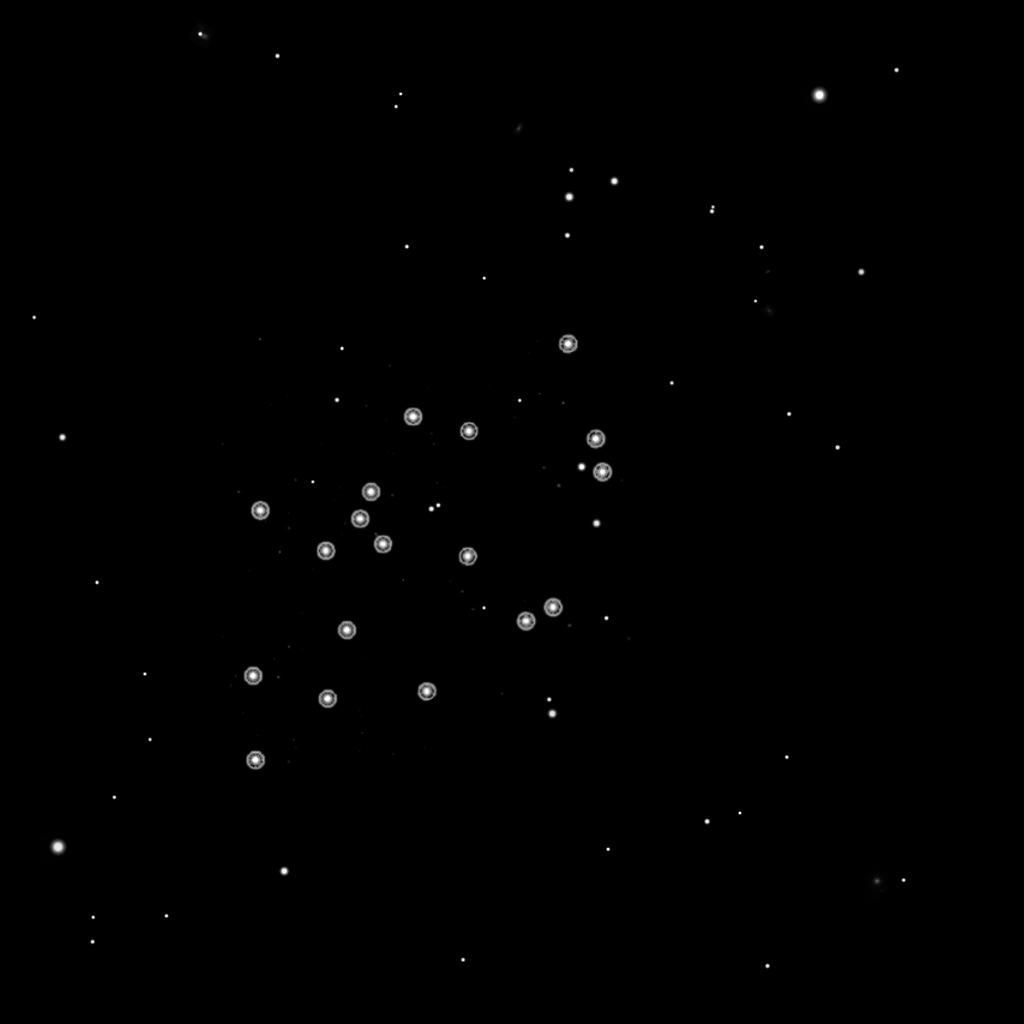canis_major: (312, 407, 480, 565)
